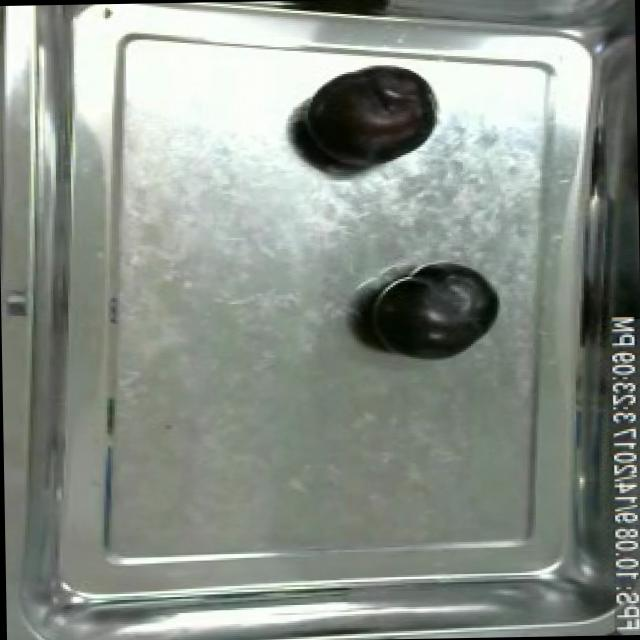Fruit: (294, 62, 442, 176), (358, 261, 504, 365)
